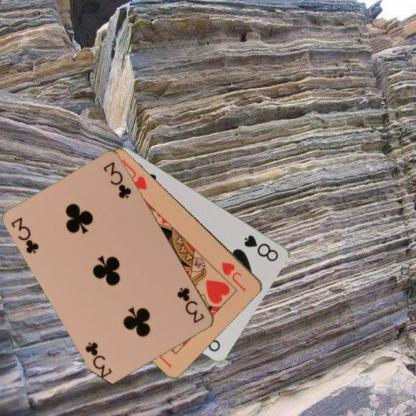3c: (8, 214, 41, 256), (174, 284, 206, 325)
8s: (242, 232, 280, 263)
Jh: (219, 259, 248, 293)
